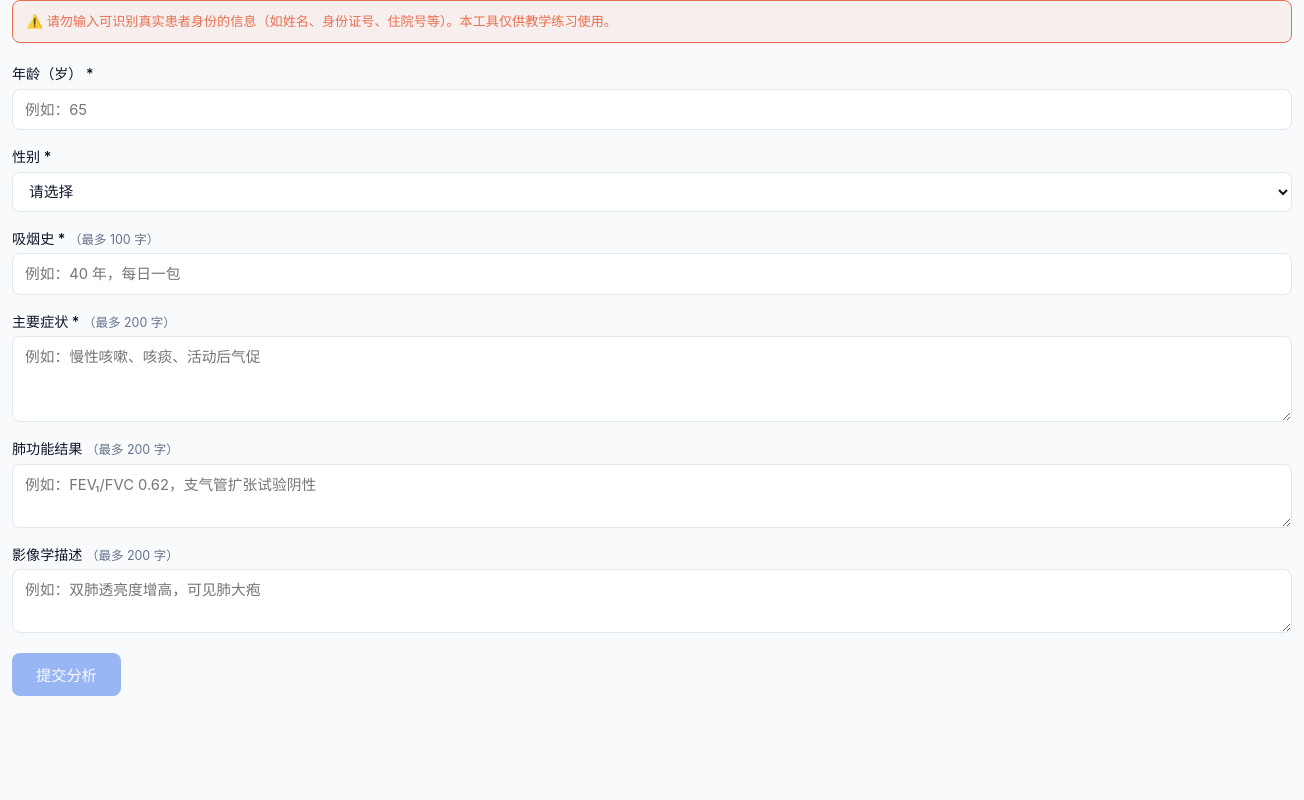
CaseInputForm › submit is disabled until required fields are filled
This screenshot has width=1304, height=800.
Expected: the button "提交分析" is disabled, [12,653,121,696]
In the field with placeholder "例如：65": coordinates (652, 110) [12,89,1292,130], type "70"
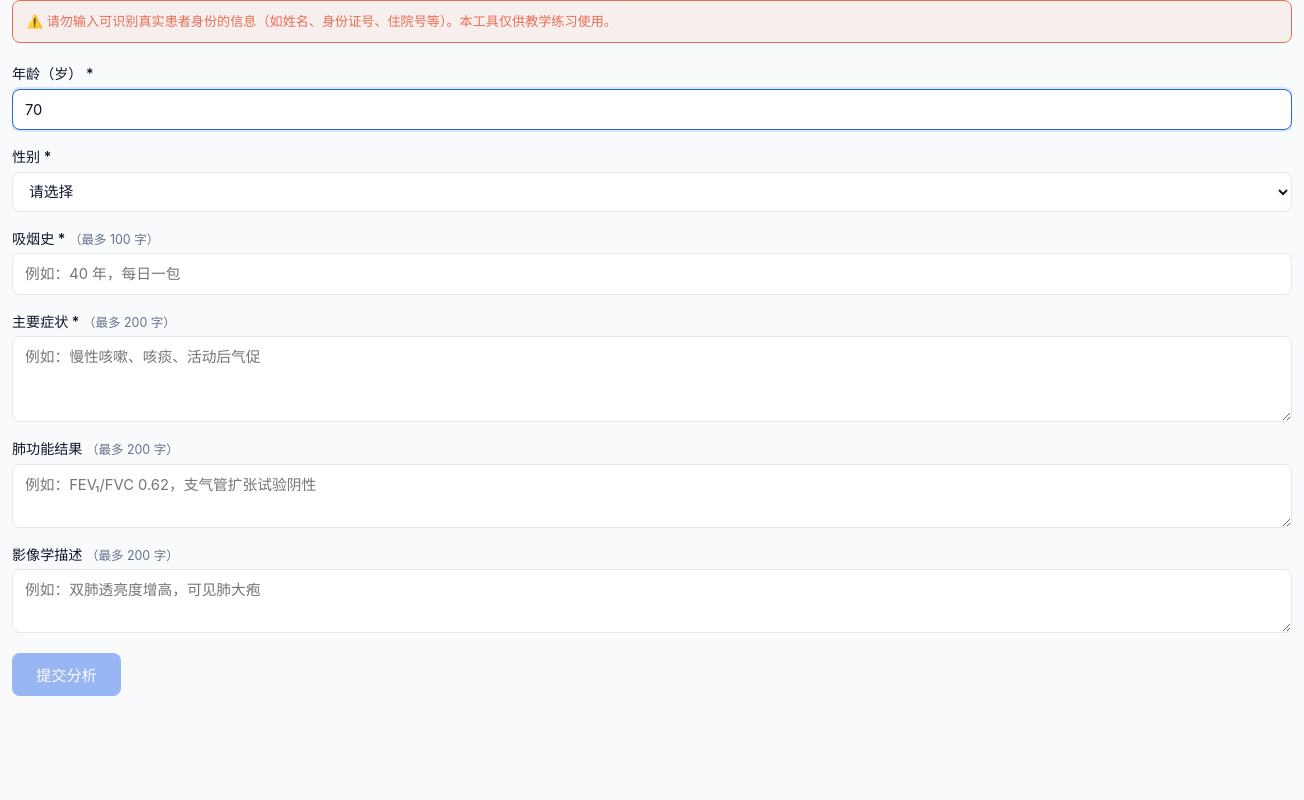
Select "男性" in the dropdown: coordinates (652, 192) [12,172,1292,212]
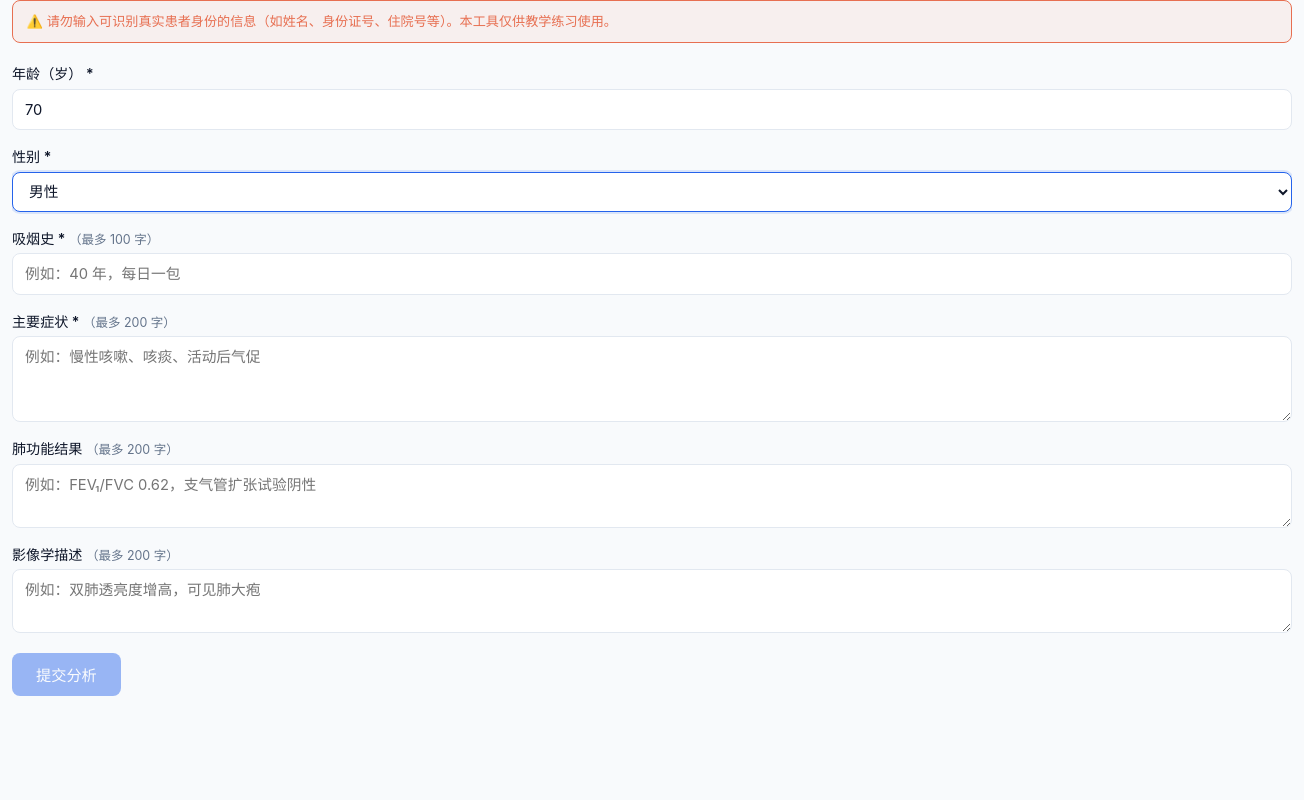
In the field with placeholder "例如：40 年，每日一包": coordinates (652, 274) [12,253,1292,295], type "30 年"
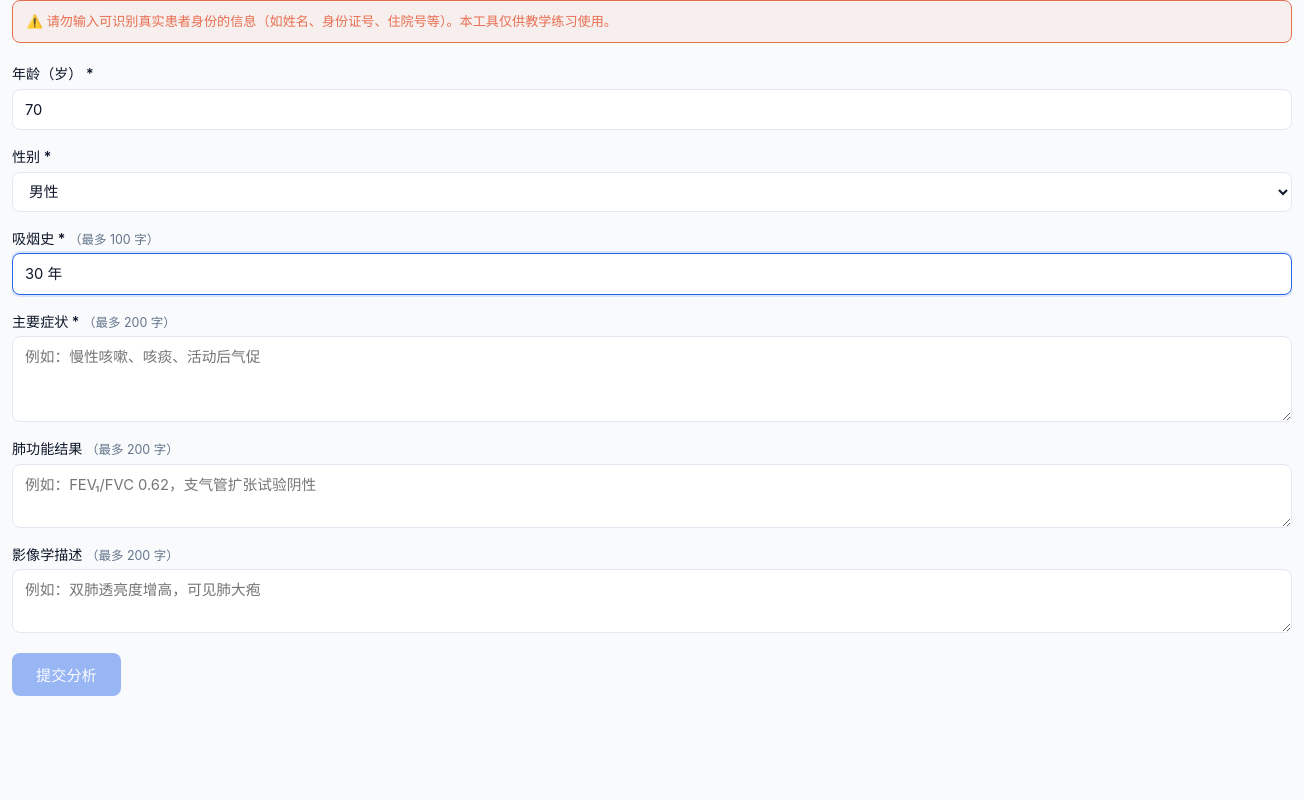
In the text box with placeholder "例如：慢性咳嗽、咳痰、活动后气促": coordinates (652, 379) [12,336,1292,422], type "气促、咳痰"
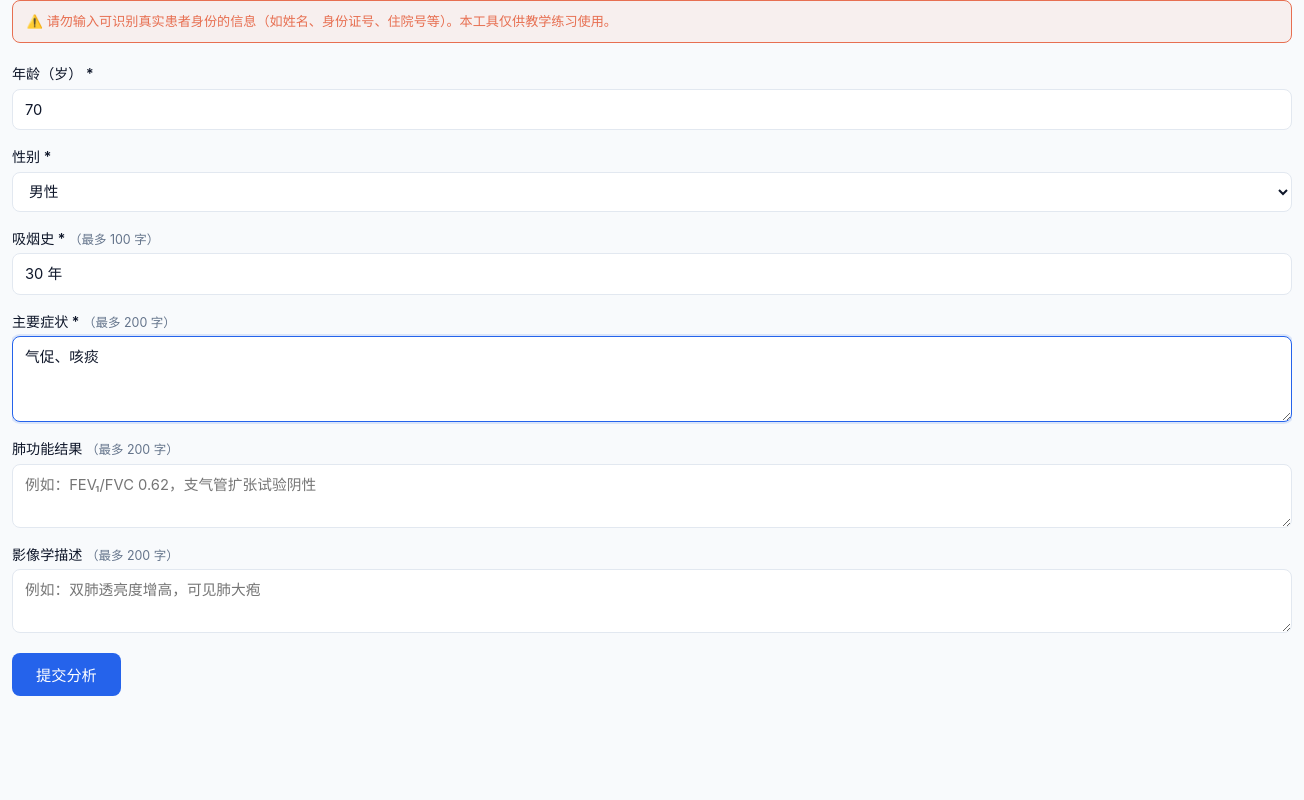
Expected: the button "提交分析" is enabled, [12,653,121,696]
